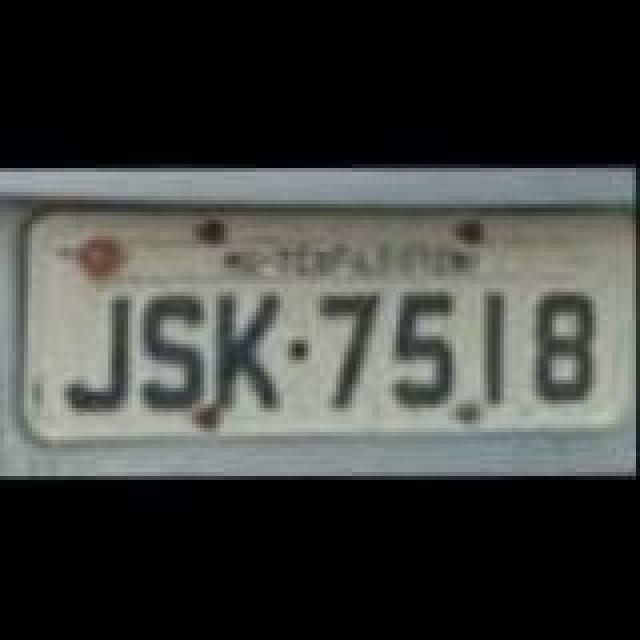1: (474, 286, 514, 406)
5: (394, 288, 466, 408)
7: (312, 290, 380, 406)
8: (532, 286, 600, 406)
J: (62, 296, 142, 420)
K: (206, 288, 286, 416)
S: (140, 298, 216, 414)
